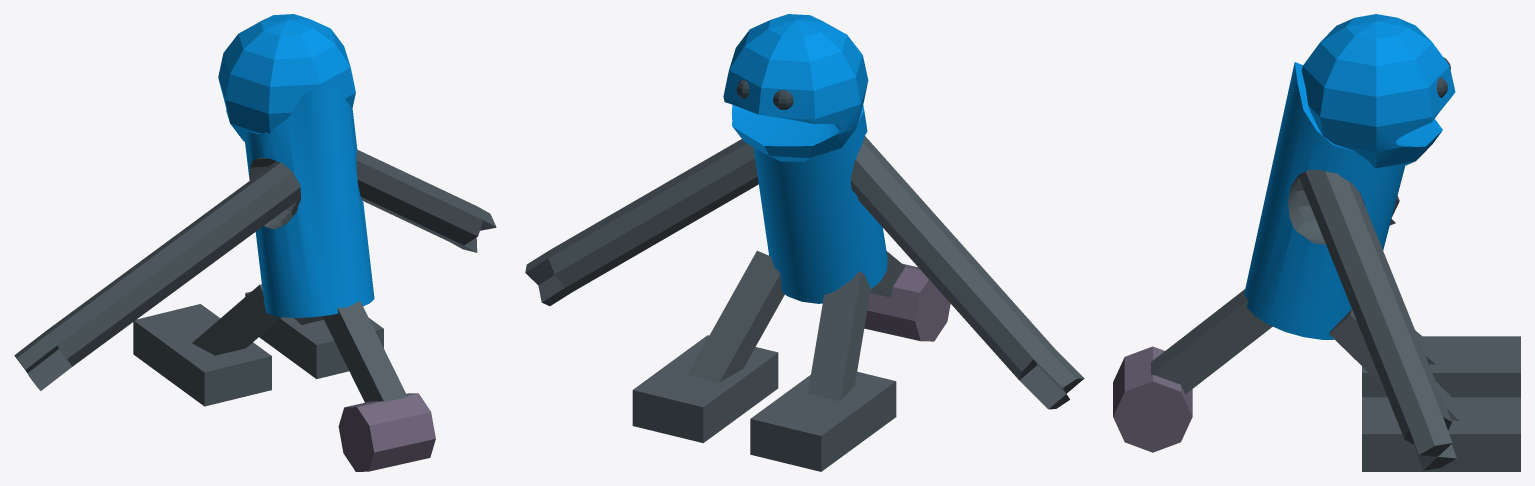
The model's file is enemy.fbx.
3 renders of one model, left to right at view 1: azimuth 30°, elevation 25°; view 2: azimuth 150°, elevation 25°; view 3: azimuth 270°, elevation 25°, orthographic. The views are drawn at different scales.
Visible parts, largest first — view 1: pCylinder7; view 2: pCylinder7; view 3: pCylinder7.
Boxes of the visible parts, x1,y1,x2,y2 form: pCylinder7: (14, 14, 496, 471); pCylinder7: (525, 14, 1084, 471); pCylinder7: (1113, 14, 1520, 471).
Bounding box in the file's own units: 6.05 × 4.32 × 3.85.
